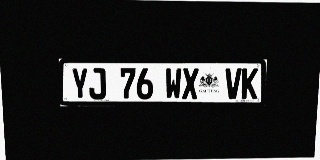6: (136, 68, 153, 99)
7: (119, 68, 136, 99)
J: (88, 68, 106, 99)
K: (241, 68, 258, 99)
V: (225, 68, 242, 99)
W: (165, 68, 182, 99)
X: (182, 68, 199, 99)
Y: (71, 68, 89, 100)
